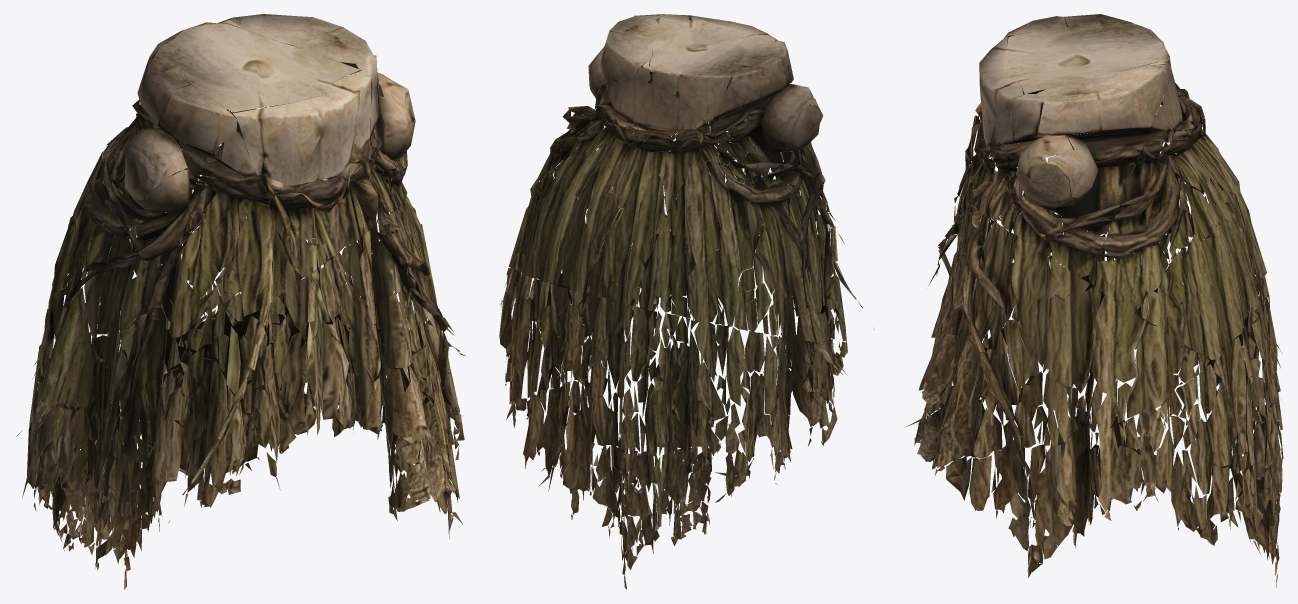
Rendered from skirt.fbx.
The picture shows the model from 3 angles, left to right: view 1: azimuth 30°, elevation 25°; view 2: azimuth 150°, elevation 25°; view 3: azimuth 270°, elevation 25°; orthographic projection. The views are drawn at different scales.
Parts seen in each view (by area): view 1: Part; view 2: Part; view 3: Part.
Boxes of the visible parts, x1,y1,x2,y2 form: Part: (16,14,465,589); Part: (499,14,874,589); Part: (904,14,1283,587).
Size of the model in its own units: 0.3246 by 0.4445 by 0.2812.
